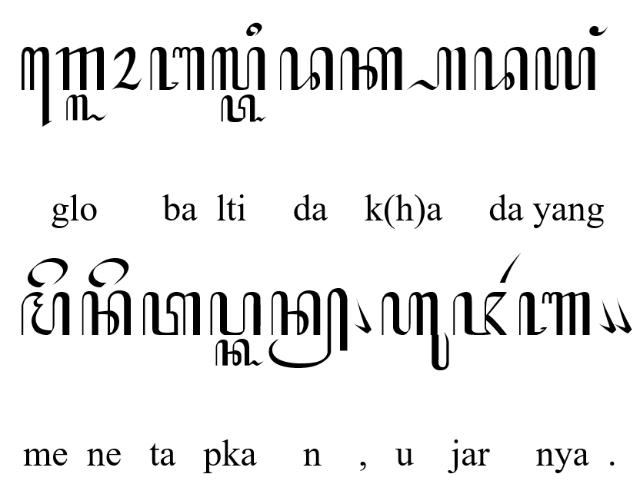-n: (268, 287, 348, 368)
_h: (406, 46, 466, 91)
_k: (214, 338, 264, 368)
_l: (65, 95, 108, 122)
_r1: (500, 250, 520, 284)
_t: (220, 93, 268, 123)
b: (148, 46, 206, 92)
d: (278, 46, 334, 92), (473, 46, 529, 92)
e: (88, 257, 130, 289), (28, 257, 68, 288)
e1: (20, 46, 52, 128)
g: (54, 47, 106, 91)
hu: (380, 290, 450, 372)
i: (245, 22, 263, 36)
j: (452, 291, 508, 337)
k: (338, 46, 404, 92)
kom: (598, 298, 618, 334), (614, 298, 632, 335), (354, 298, 372, 334)
l: (210, 46, 266, 92)
m: (21, 291, 71, 336)
n: (81, 290, 133, 337)
ng: (590, 25, 608, 37)
ny1: (518, 291, 590, 336)
o: (111, 46, 142, 90)
p: (208, 292, 262, 336)
t: (142, 291, 202, 336)
y: (534, 46, 596, 92)
